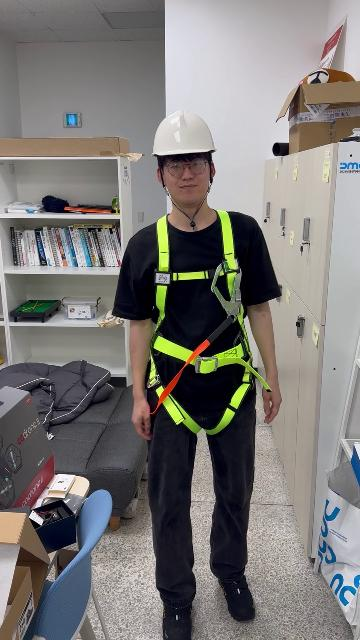helmet_worn: (150, 110, 218, 158)
shoe_worn: (218, 575, 255, 622), (161, 599, 193, 640)
vest_worn: (143, 219, 262, 428)
